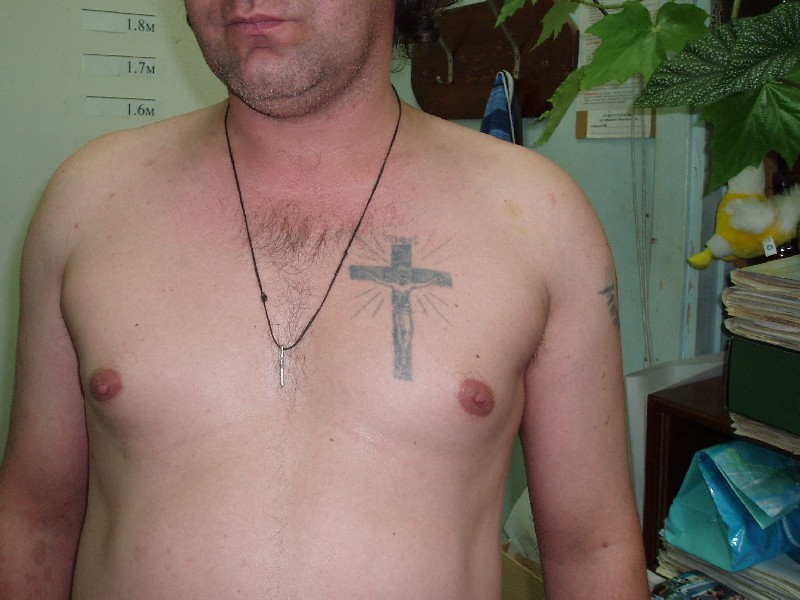tatu9_krest: (348, 243, 456, 388)
